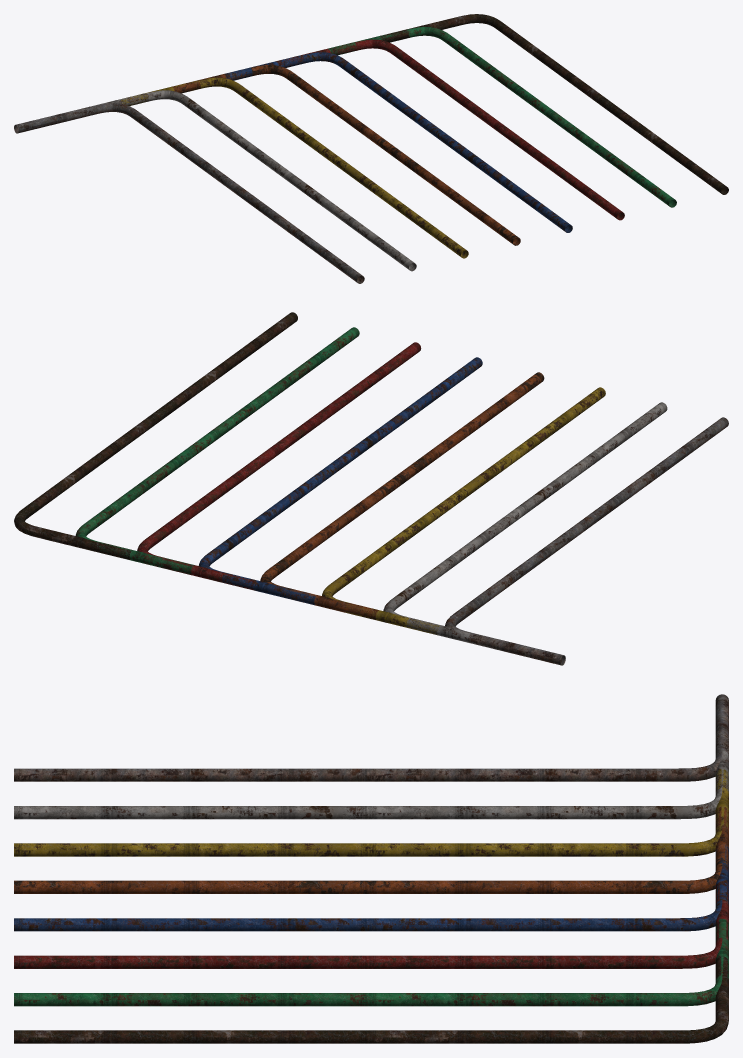
The model's file is Pipes.glb.
The picture shows the model from 3 angles, top to bottom: view 1: azimuth 30°, elevation 25°; view 2: azimuth 150°, elevation 25°; view 3: azimuth 270°, elevation 25°; orthographic projection. The views are drawn at different scales.
Parts seen in each view (by area): view 1: Pipe_Turn_Metal_1, Pipe_Turn_Black, Pipe_Turn_Blue, Pipe_Straight_4m_Yellow, Pipe_Straight_4m_Red, Pipe_Straight_4m_Green, Pipe_Straight_4m_Metal_1, Pipe_Straight_4m_Black, Pipe_Straight_4m_Blue, Pipe_Straight_4m_Orange, Pipe_Straight_4m_Metal_2, Pipe_Turn_Metal_2 (+12 smaller); view 2: Pipe_Turn_Black, Pipe_Turn_Metal_1, Pipe_Straight_4m_Yellow, Pipe_Straight_4m_Blue, Pipe_Straight_4m_Metal_1, Pipe_Straight_4m_Black, Pipe_Straight_4m_Green, Pipe_Straight_4m_Metal_2, Pipe_Straight_4m_Orange, Pipe_Straight_4m_Red, Pipe_Turn_Blue, Pipe_Turn_Metal_2 (+12 smaller); view 3: Pipe_Straight_4m_Black, Pipe_Straight_4m_Yellow, Pipe_Straight_4m_Blue, Pipe_Straight_4m_Green, Pipe_Straight_4m_Metal_1, Pipe_Straight_4m_Metal_2, Pipe_Straight_4m_Orange, Pipe_Straight_4m_Red, Pipe_Turn_Black, Pipe_Turn_Metal_1, Pipe_Turn_Orange, Pipe_Turn_Yellow (+12 smaller).
Part boxes in pixels (<box>): Pipe_Turn_Metal_1: <box>14,103,181,150</box>; Pipe_Turn_Black: <box>380,14,546,61</box>; Pipe_Turn_Blue: <box>224,52,390,99</box>; Pipe_Straight_4m_Yellow: <box>280,118,406,213</box>; Pipe_Straight_4m_Red: <box>437,80,562,175</box>; Pipe_Straight_4m_Green: <box>489,67,614,162</box>; Pipe_Straight_4m_Metal_1: <box>176,143,302,238</box>; Pipe_Straight_4m_Black: <box>541,54,666,149</box>; Pipe_Straight_4m_Blue: <box>384,93,510,187</box>; Pipe_Straight_4m_Orange: <box>332,105,458,200</box>; Pipe_Straight_4m_Metal_2: <box>228,131,353,225</box>; Pipe_Turn_Metal_2: <box>68,90,233,138</box>; Pipe_Turn_Black: <box>14,468,132,559</box>; Pipe_Turn_Metal_1: <box>445,573,565,665</box>; Pipe_Straight_4m_Yellow: <box>385,439,534,551</box>; Pipe_Straight_4m_Blue: <box>262,409,411,521</box>; Pipe_Straight_4m_Metal_1: <box>509,469,657,581</box>; Pipe_Straight_4m_Black: <box>77,364,226,476</box>; Pipe_Straight_4m_Green: <box>139,379,288,491</box>; Pipe_Straight_4m_Metal_2: <box>447,454,596,566</box>; Pipe_Straight_4m_Orange: <box>324,424,473,536</box>; Pipe_Straight_4m_Red: <box>201,394,349,506</box>; Pipe_Turn_Blue: <box>198,513,315,604</box>; Pipe_Turn_Metal_2: <box>383,558,501,649</box>; Pipe_Straight_4m_Black: <box>191,1030,545,1043</box>; Pipe_Straight_4m_Yellow: <box>191,843,545,856</box>; Pipe_Straight_4m_Blue: <box>191,918,545,931</box>; Pipe_Straight_4m_Green: <box>191,993,545,1006</box>; Pipe_Straight_4m_Metal_1: <box>191,768,545,781</box>; Pipe_Straight_4m_Metal_2: <box>191,806,545,819</box>; Pipe_Straight_4m_Orange: <box>191,880,545,893</box>; Pipe_Straight_4m_Red: <box>191,955,545,968</box>; Pipe_Turn_Black: <box>545,956,728,1043</box>; Pipe_Turn_Metal_1: <box>545,694,728,781</box>; Pipe_Turn_Orange: <box>545,806,728,893</box>; Pipe_Turn_Yellow: <box>545,769,728,856</box>.
Bounding box in the file's own units: 9.07 × 0.15 × 8.07.
Materials: 1 (1 with a texture image).
